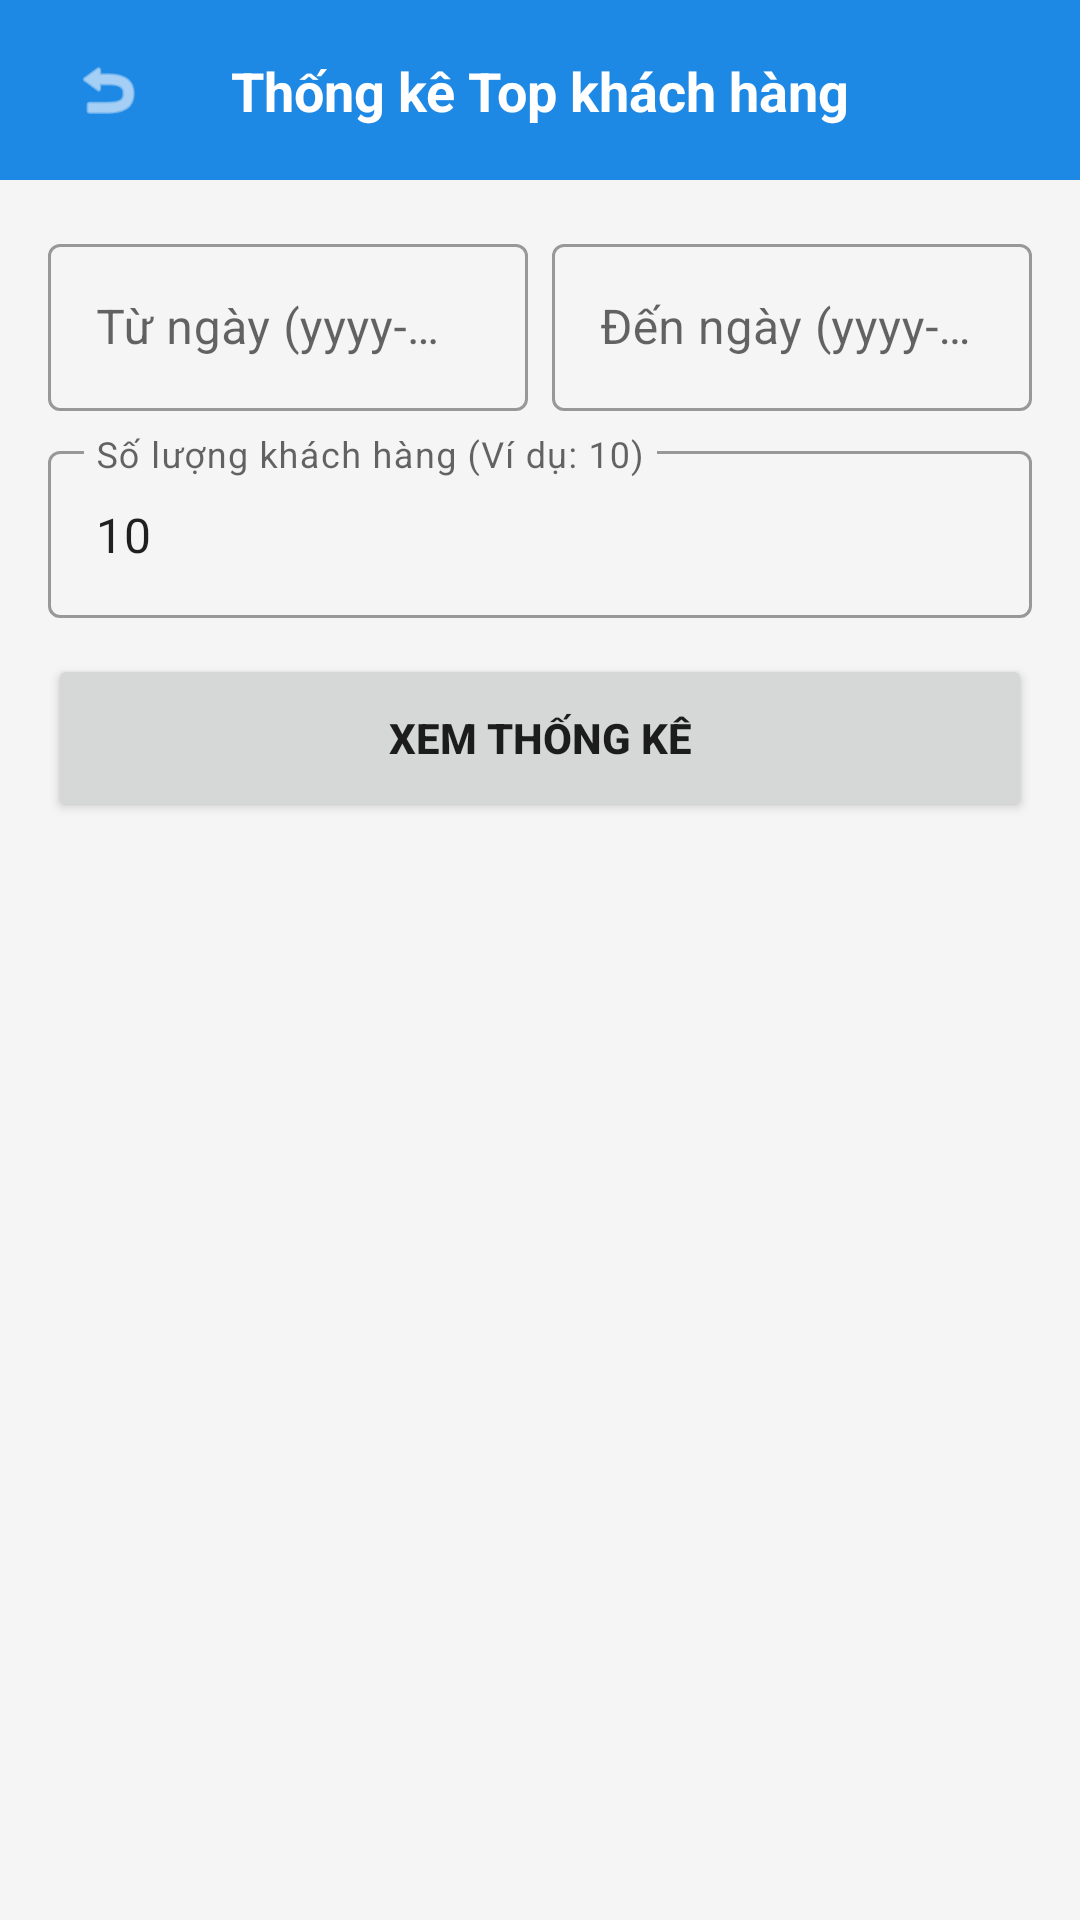

Icons on this 1080w x 1920h Android screen, each with the point to tap as point (x, y):
revert: point (109, 90)
